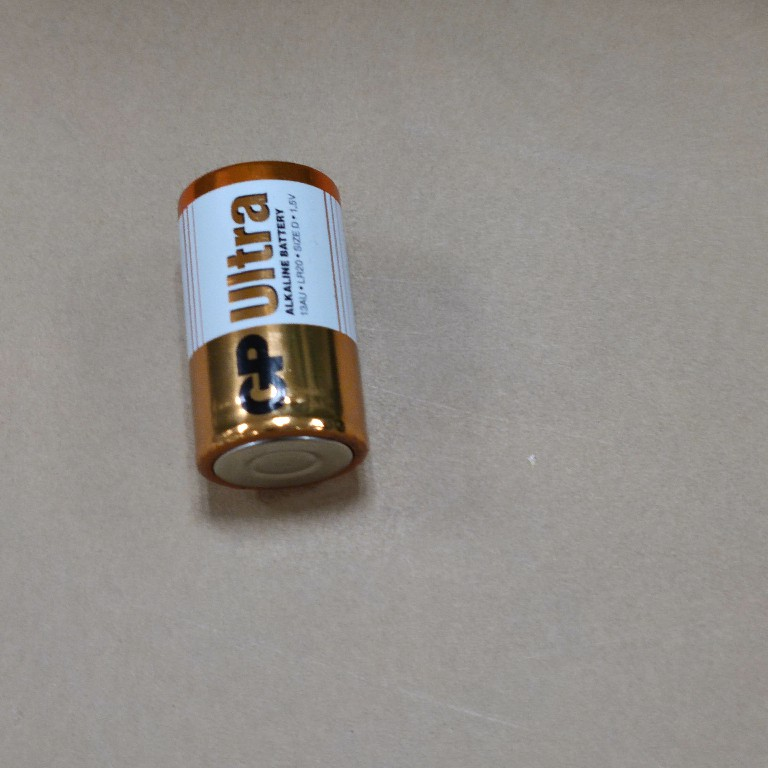charge: (168, 155, 381, 494)
